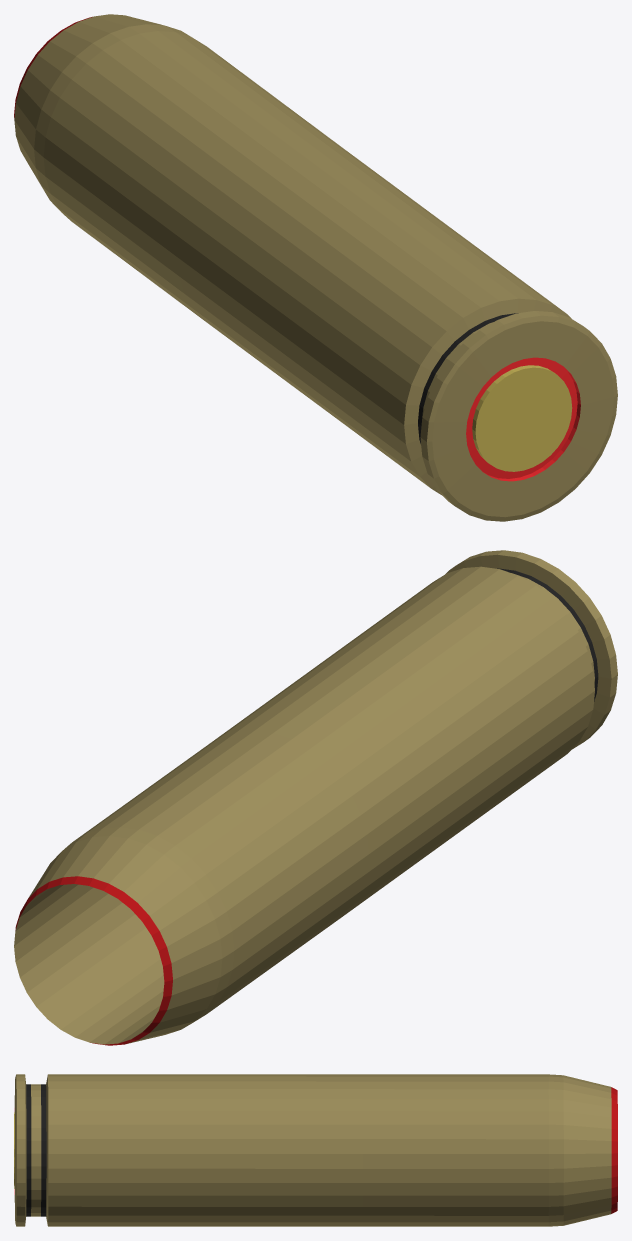
The model's file is ammunition case.fbx.
The picture shows the model from 3 angles, top to bottom: view 1: azimuth 30°, elevation 25°; view 2: azimuth 150°, elevation 25°; view 3: azimuth 270°, elevation 25°; orthographic projection. The views are drawn at different scales.
Parts seen in each view (by area): view 1: schuss gesamt.002; view 2: schuss gesamt.002; view 3: schuss gesamt.002.
Part boxes in pixels (x1,y1,x2,y2): schuss gesamt.002: (14,14,617,521); schuss gesamt.002: (14,550,617,1045); schuss gesamt.002: (14,1074,617,1226).
Size of the model in its own units: 23.86 by 23.62 by 92.98.
